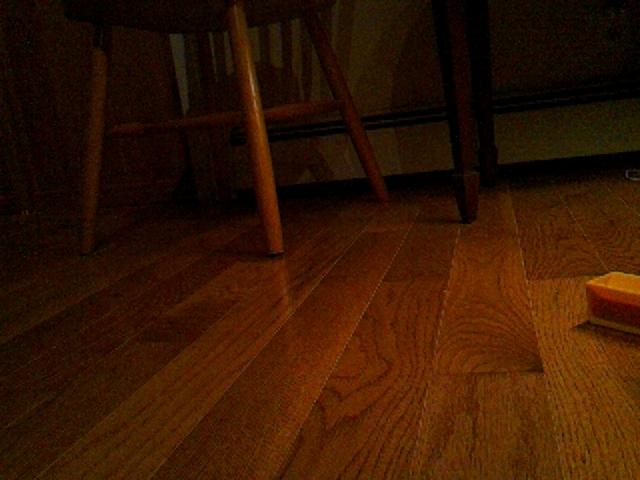yellow: (583, 269, 640, 339)
